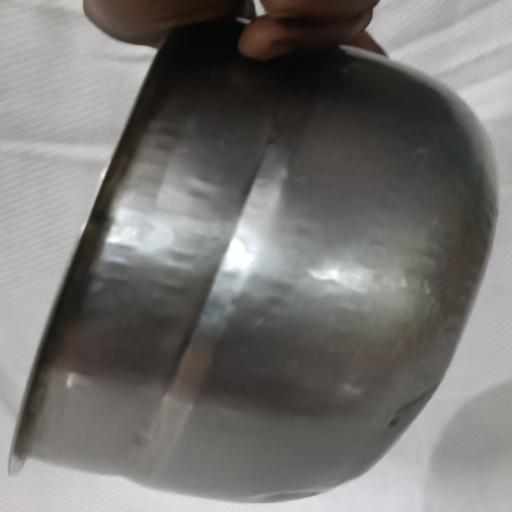vessel: (10, 20, 497, 501)
